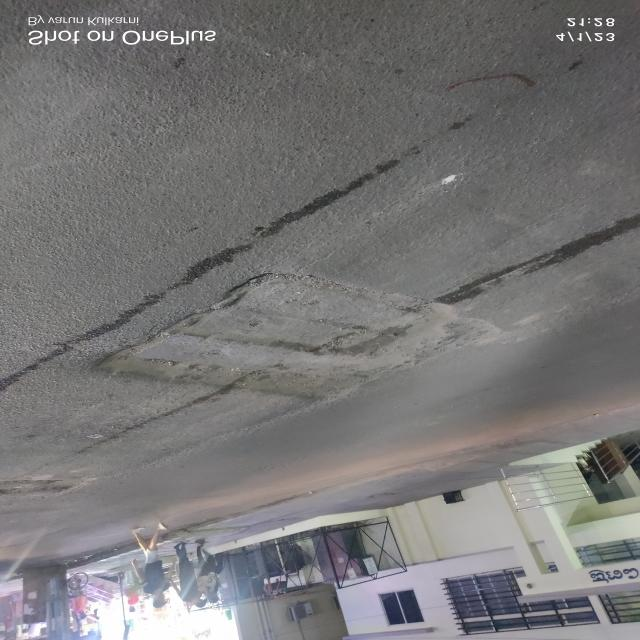potholes: (86, 259, 513, 416)
